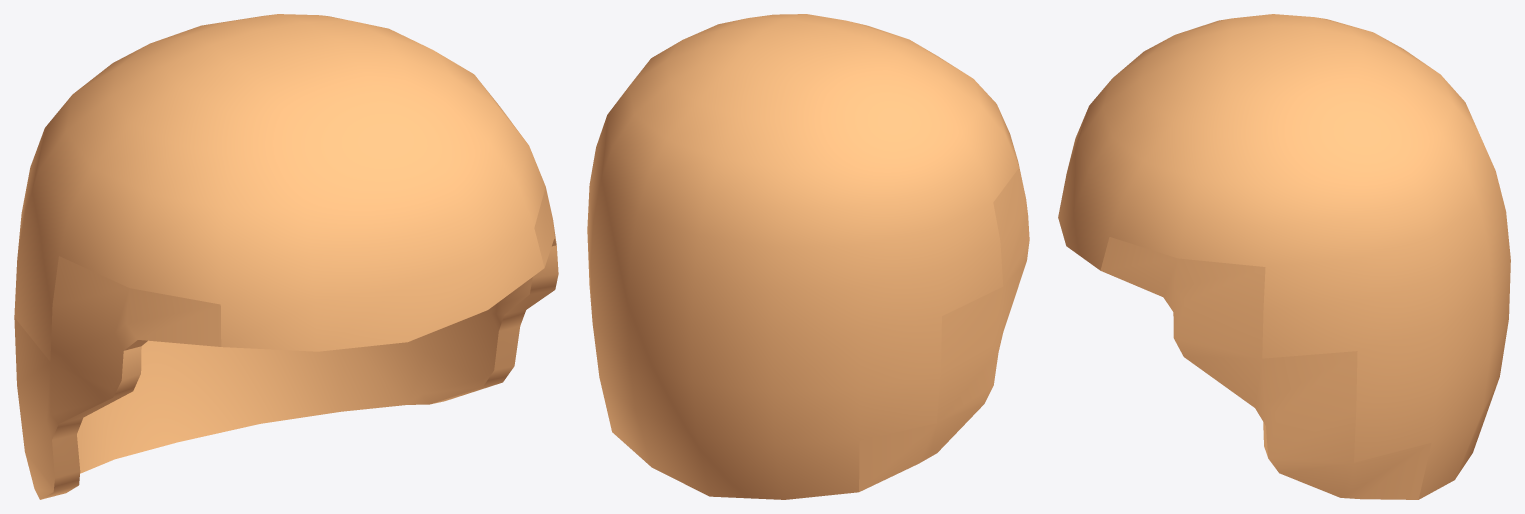
Rendered from hair.fbx.
The picture shows the model from 3 angles, left to right: view 1: azimuth 30°, elevation 25°; view 2: azimuth 150°, elevation 25°; view 3: azimuth 270°, elevation 25°; orthographic projection. The views are drawn at different scales.
Visible parts, largest first — view 1: Object001; view 2: Object001; view 3: Object001.
Boxes of the visible parts, bbox=[...] form: Object001: bbox=[14, 14, 558, 499]; Object001: bbox=[587, 14, 1029, 499]; Object001: bbox=[1058, 14, 1510, 499].
Bounding box in the file's own units: 15.98 × 15.42 × 15.33.
